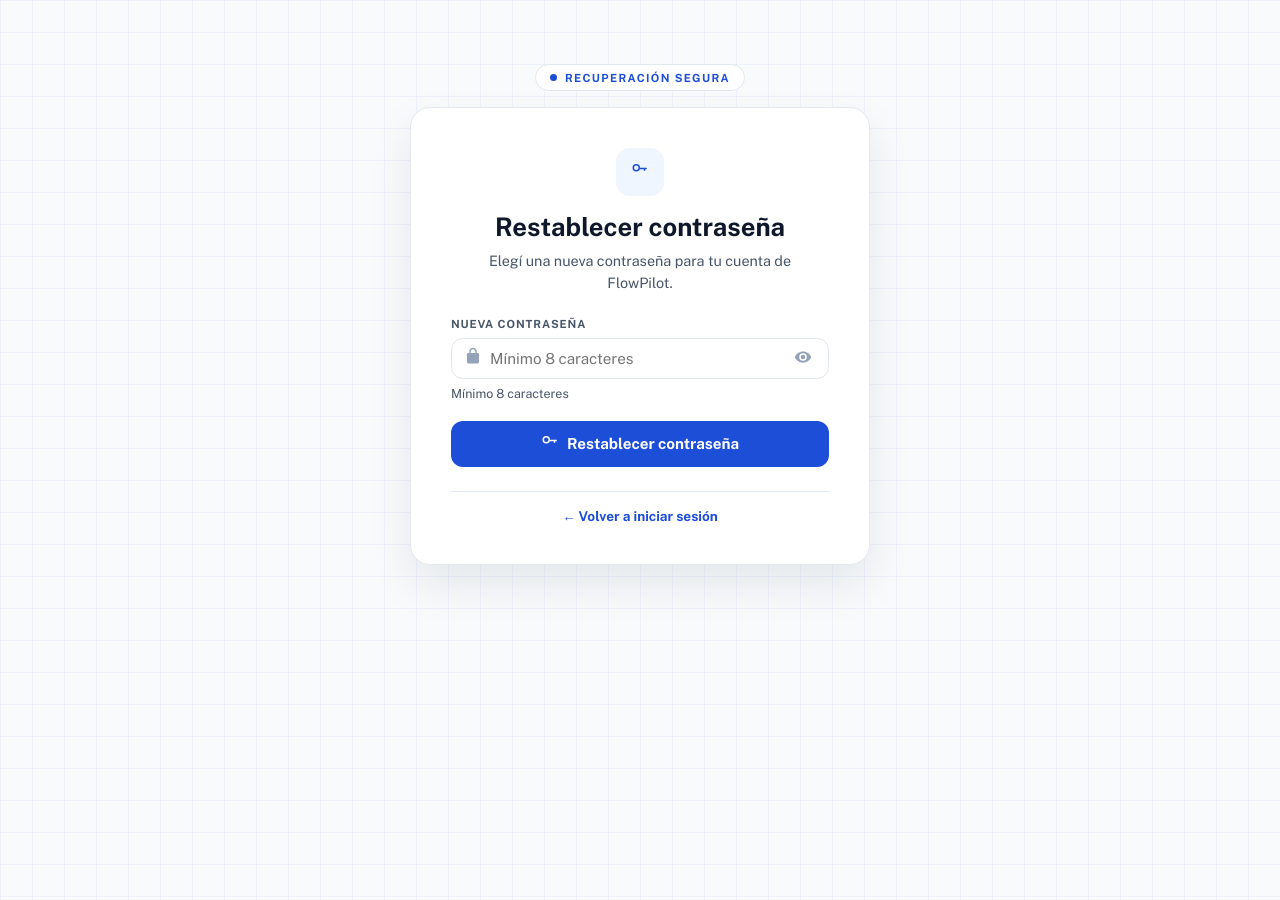
Test: ResetPasswordComponent › renders the RFC7807 detail message when the token is invalid or expired
Type "newSecret123" into the password field with test id "reset-password-new-password" at point(636, 358), box [490, 339, 782, 378]
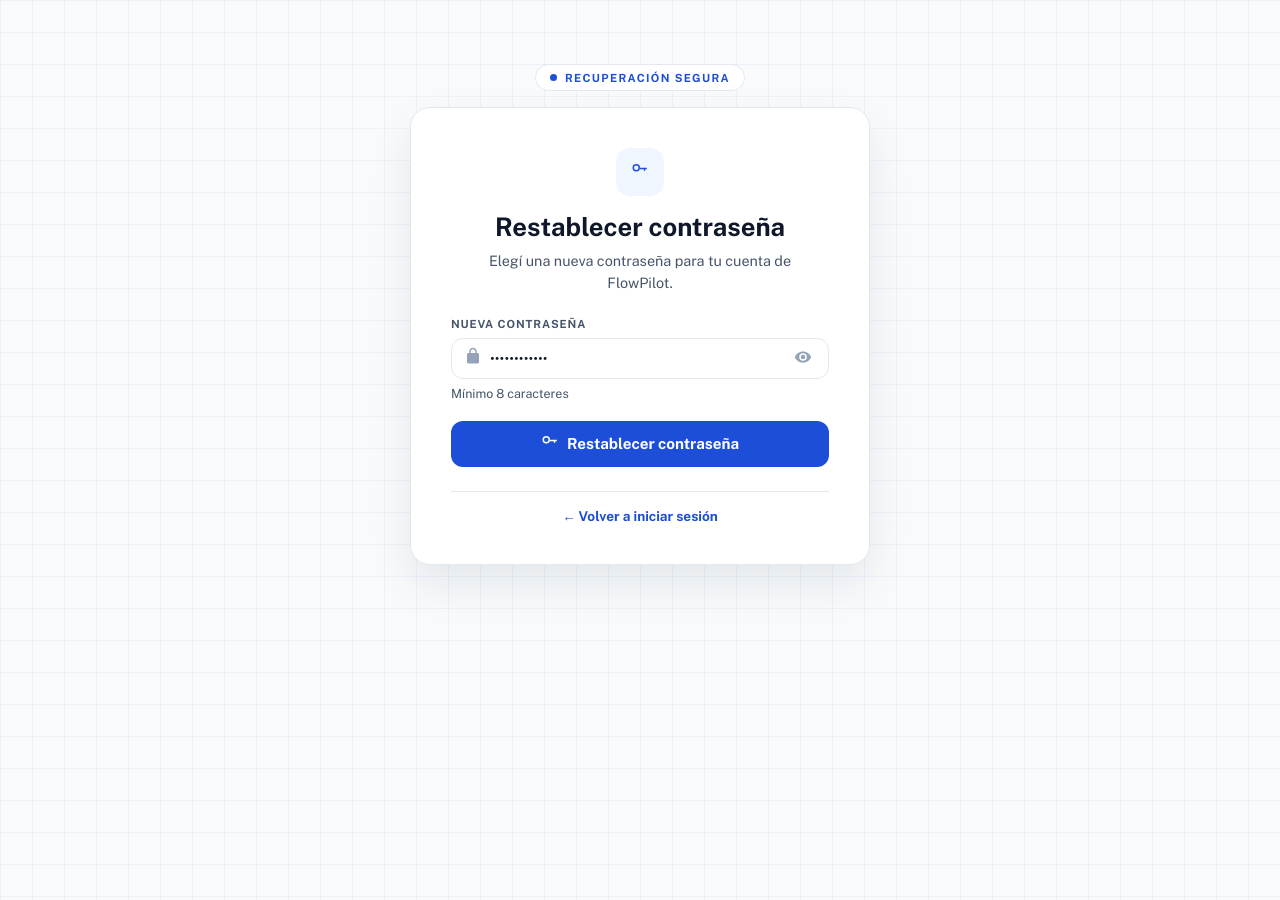
Submit the form, box [451, 317, 829, 467]
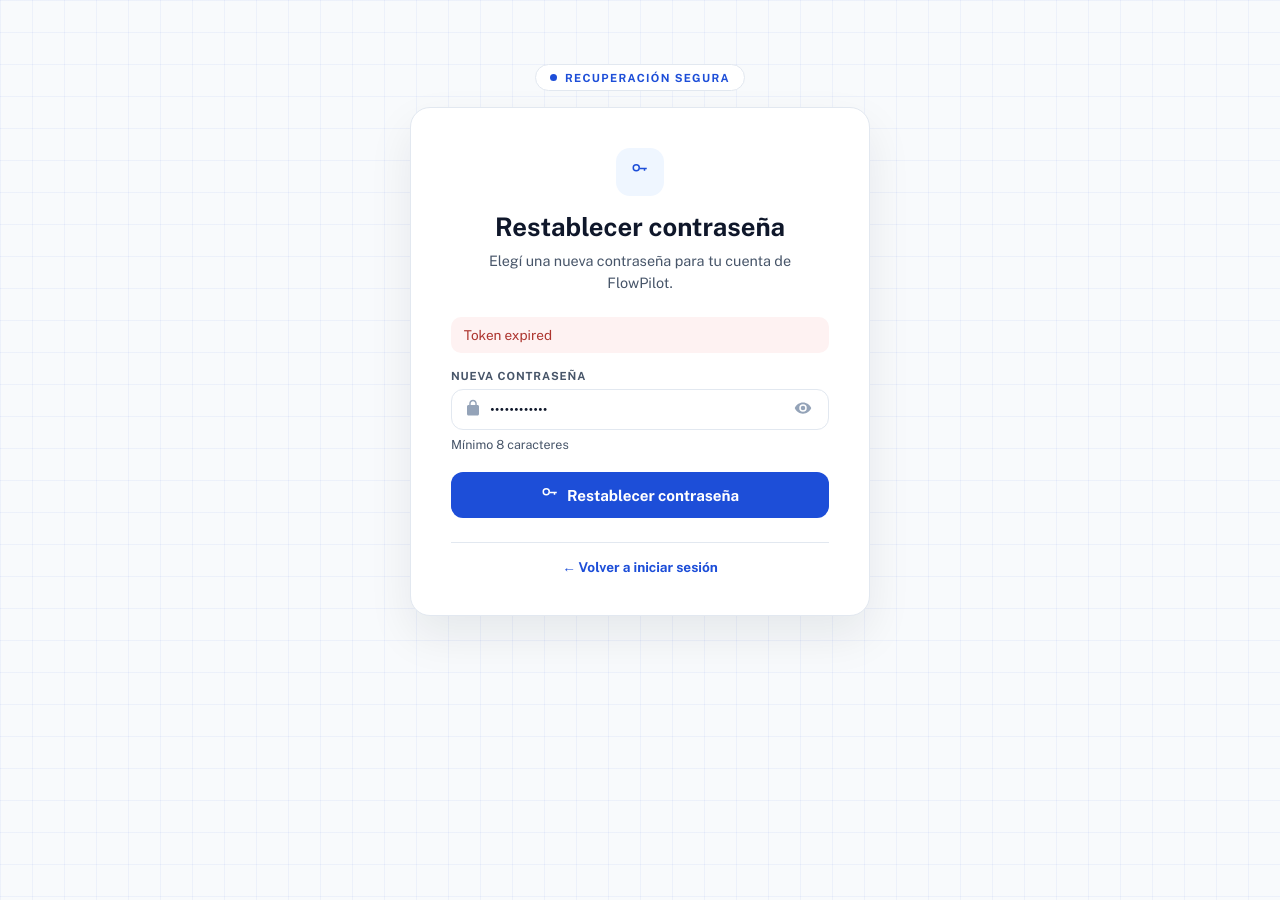
Check: the message with test id "reset-password-error" reads "Token expired", box [464, 327, 552, 343]
